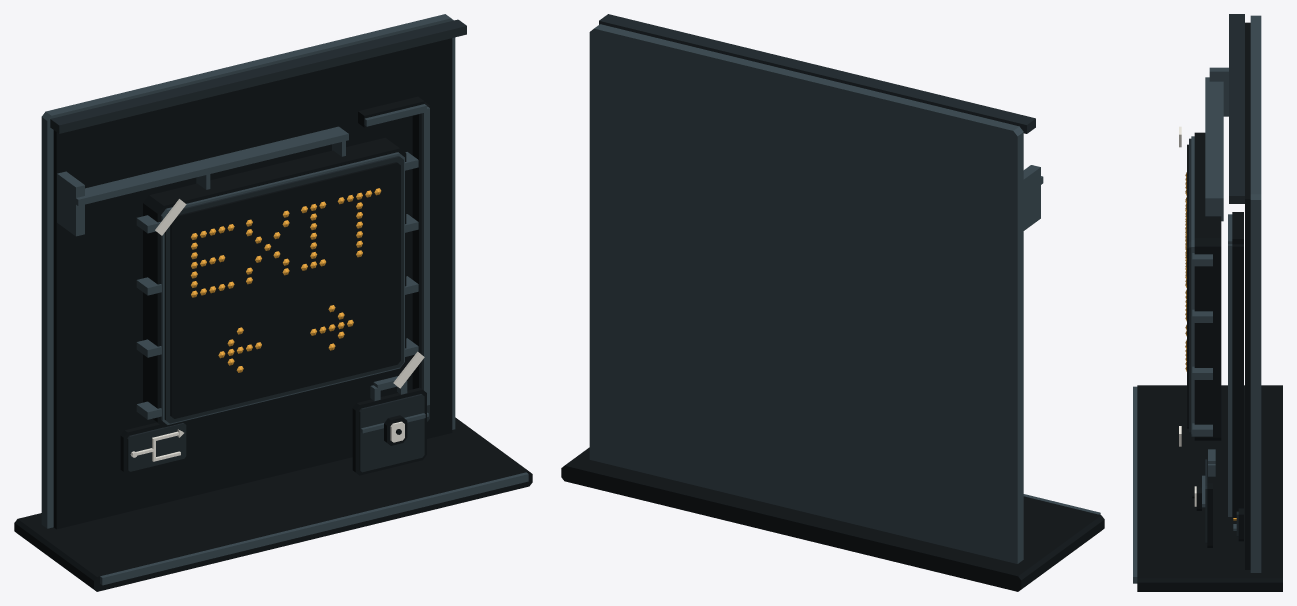
3 renders of one model, left to right at view 1: azimuth 30°, elevation 25°; view 2: azimuth 150°, elevation 25°; view 3: azimuth 270°, elevation 25°, orthographic. The views are drawn at different scales.
Visible parts, largest first — view 1: Exit Liquidity sign; view 2: Exit Liquidity sign; view 3: Exit Liquidity sign.
Part boxes in pixels (x1=…): Exit Liquidity sign: x1=14, y1=14, x2=532, y2=591; Exit Liquidity sign: x1=561, y1=14, x2=1104, y2=591; Exit Liquidity sign: x1=1133, y1=14, x2=1282, y2=591.
Size of the model in its own units: 1.08 by 1 by 0.3475.
